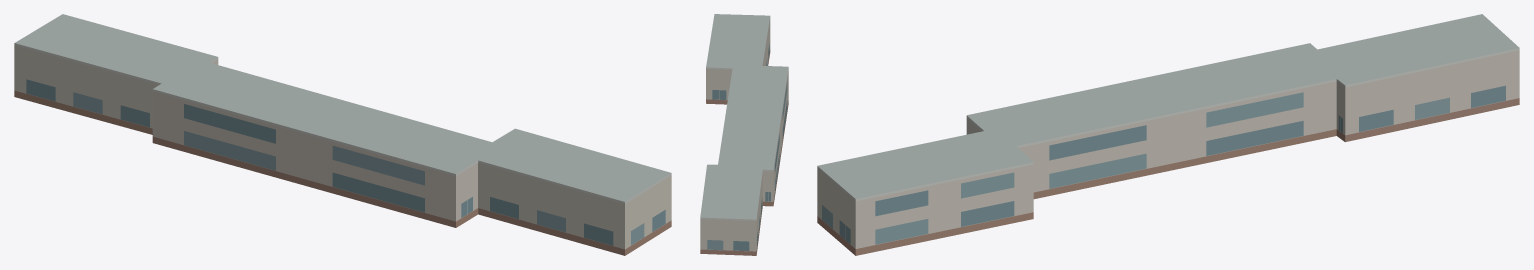
Rendered from survey-upis-32529354.glb.
3 views of the same model, side by side, from view 1: azimuth 30°, elevation 25°; view 2: azimuth 150°, elevation 25°; view 3: azimuth 270°, elevation 25° (orthographic). The views are drawn at different scales.
Visible parts, largest first — view 1: survey-upis-32529354.tmp; view 2: survey-upis-32529354.tmp; view 3: survey-upis-32529354.tmp.
Boxes of the visible parts, <box> form: survey-upis-32529354.tmp: <box>14,14,671,255</box>; survey-upis-32529354.tmp: <box>700,14,788,255</box>; survey-upis-32529354.tmp: <box>817,14,1519,255</box>.
Bounding box in the file's own units: 42.57 × 6.1 × 68.28.
